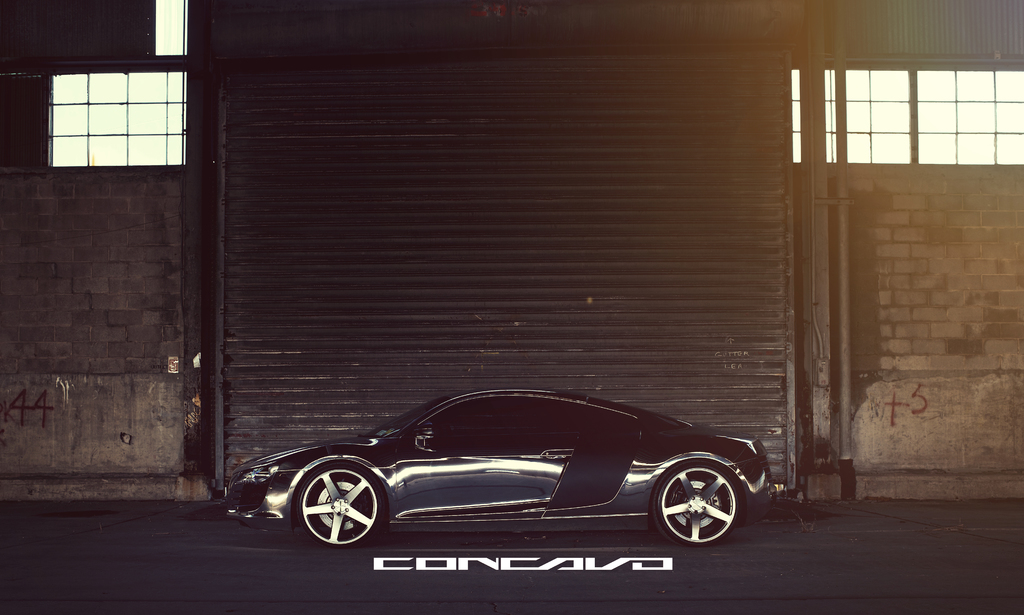Car: (220, 387, 776, 546)
